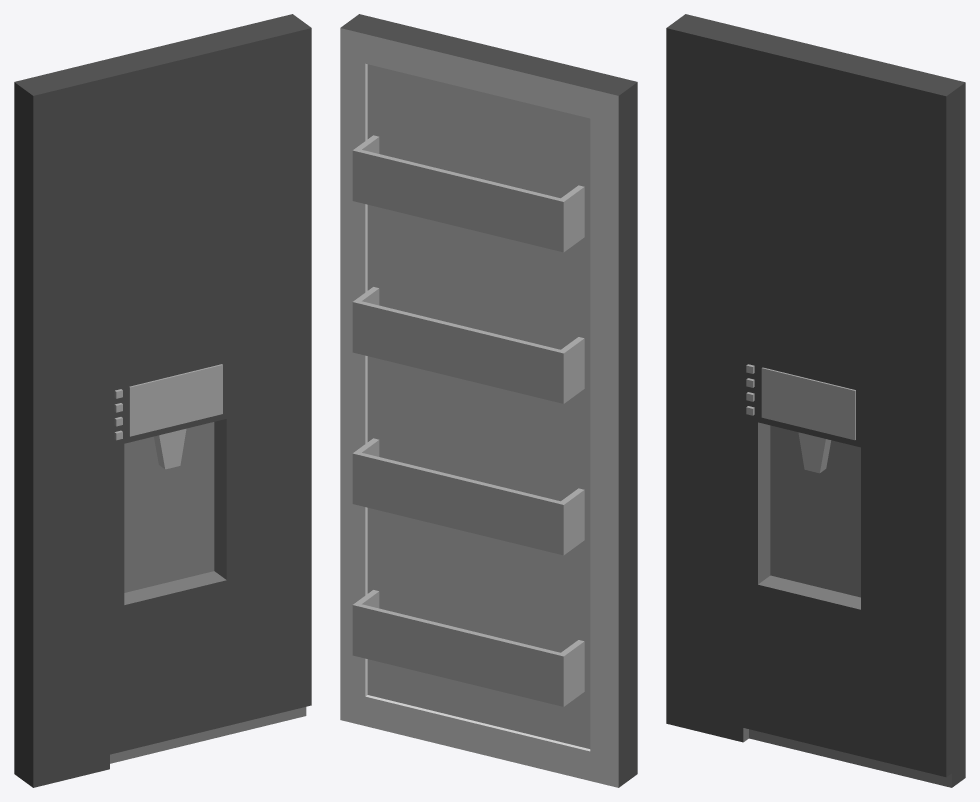
Rendered from Refrigerator3_C2_06.fbx.
The picture shows the model from 3 angles, left to right: view 1: azimuth 30°, elevation 25°; view 2: azimuth 150°, elevation 25°; view 3: azimuth 330°, elevation 25°; orthographic projection.
Visible parts, largest first — view 1: Refrigerator3_C2_06; view 2: Refrigerator3_C2_06; view 3: Refrigerator3_C2_06.
Part boxes in pixels (bbox=[...]): Refrigerator3_C2_06: bbox=[14, 14, 311, 787]; Refrigerator3_C2_06: bbox=[340, 14, 637, 787]; Refrigerator3_C2_06: bbox=[666, 14, 965, 787].
Bounding box in the file's own units: 42.12 × 100 × 10.31.
